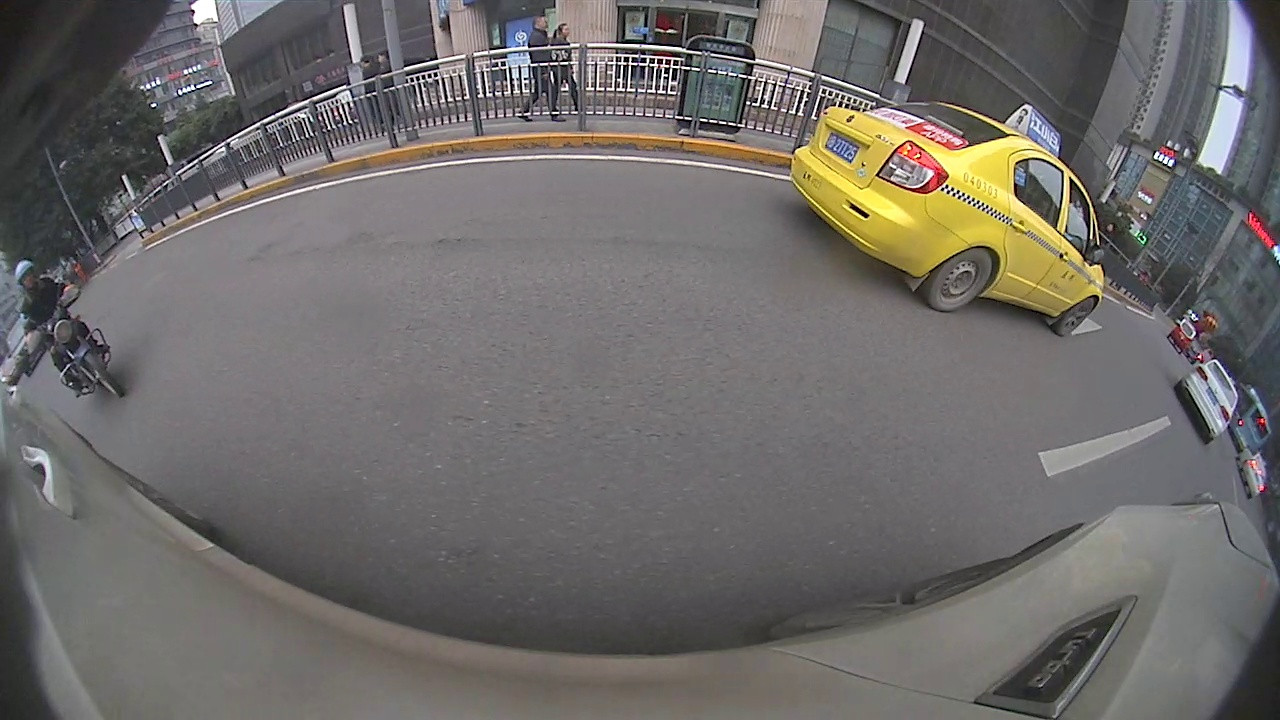car: (789, 100, 1106, 338), (1174, 358, 1243, 443)
front: (80, 350, 125, 397), (1053, 297, 1098, 335)
person: (526, 17, 549, 122), (551, 23, 575, 115)
rear: (927, 248, 991, 312)
rider: (13, 259, 127, 401)
